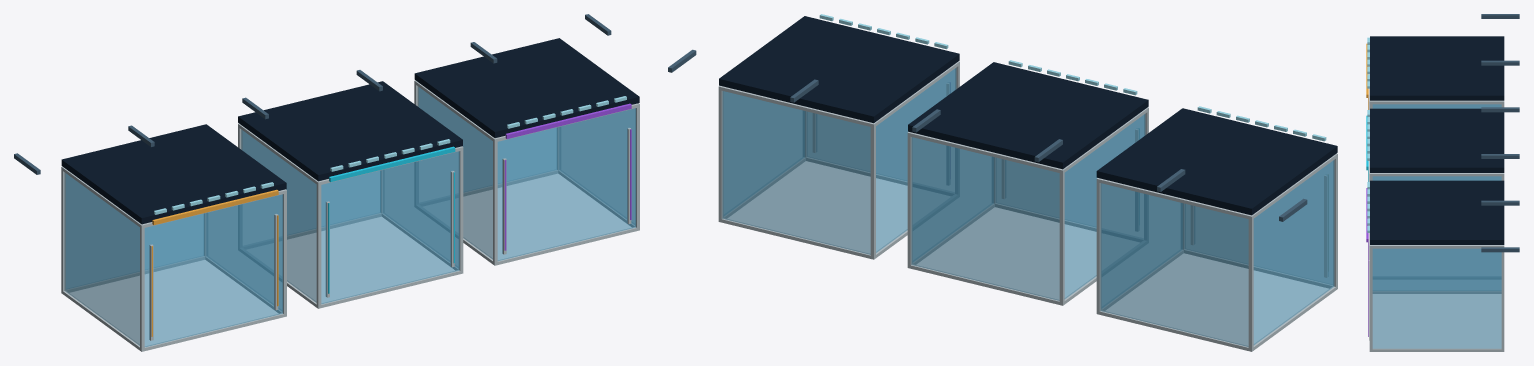
The model's file is 01_L77_TransparentTripleCMPEnclosure.fbx.
3 views of the same model, side by side, from view 1: azimuth 30°, elevation 25°; view 2: azimuth 150°, elevation 25°; view 3: azimuth 270°, elevation 25° (orthographic). The views are drawn at different scales.
Parts seen in each view (by area): view 1: TransparentTripleCMPEnclosure; view 2: TransparentTripleCMPEnclosure; view 3: TransparentTripleCMPEnclosure.
Part boxes in pixels (x1=…): TransparentTripleCMPEnclosure: x1=14, y1=14, x2=639, y2=351; TransparentTripleCMPEnclosure: x1=668, y1=14, x2=1337, y2=351; TransparentTripleCMPEnclosure: x1=1366, y1=14, x2=1519, y2=351.
Size of the model in its own units: 1741 by 410 by 481.
